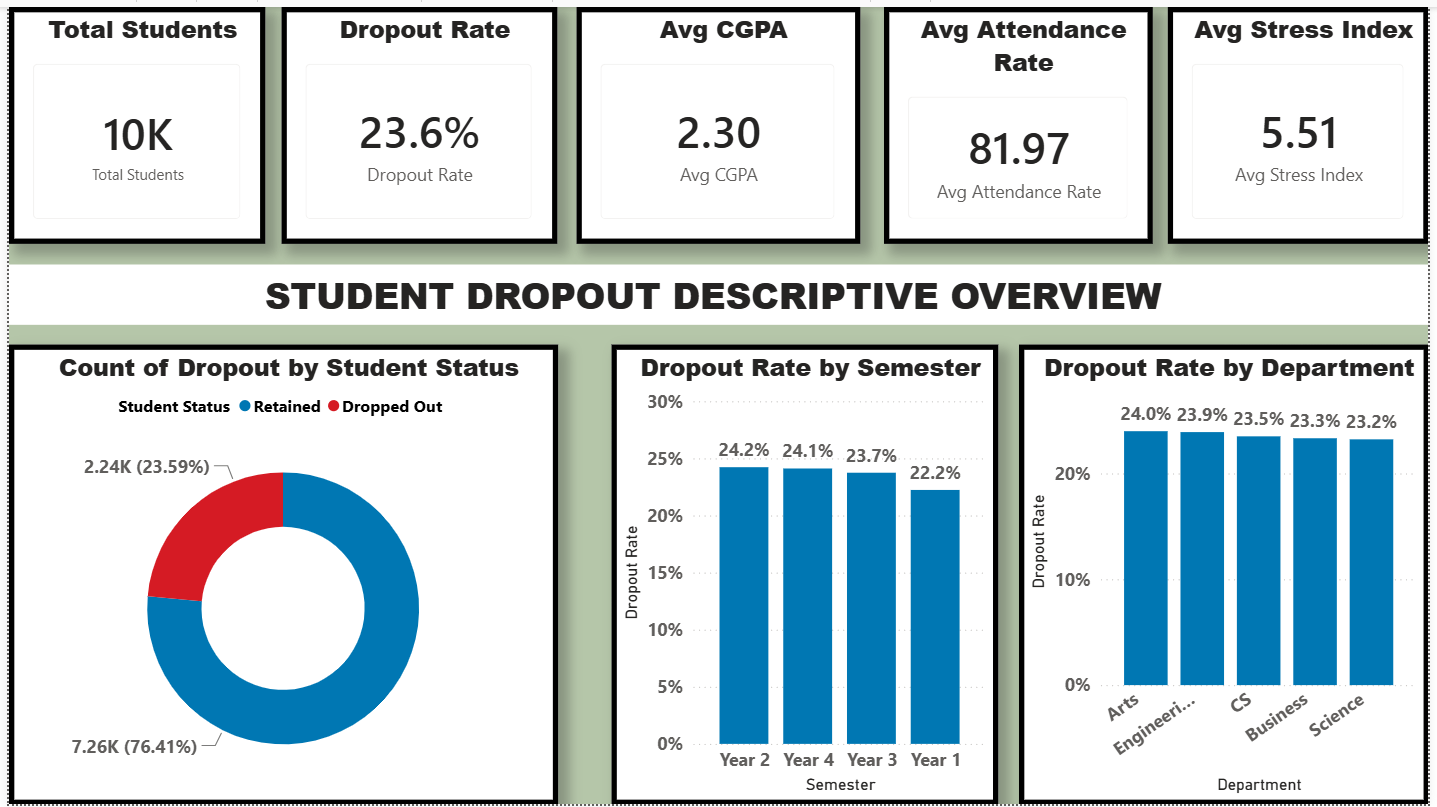

The page's visual inventory and layout, read from the dashboard file:
{"tool":"powerbi","page":{"name":"DESCRIPTIVE OVERVIEW","canvas":[1280,720],"ordinal":0},"visuals":[{"type":"cardVisual","title":"Total Students","fields":{"Data":["STUDENTS.Total Students"]},"box":[0,0,231.5,214],"z":0},{"type":"cardVisual","title":"Dropout Rate","fields":{"Data":["STUDENTS.Dropout Rate"]},"box":[246.1,0,249,214],"z":1000},{"type":"cardVisual","title":"Avg CGPA","fields":{"Data":["STUDENTS.Avg CGPA"]},"box":[511.6,0,255.8,214],"z":2000},{"type":"cardVisual","title":"Avg Attendance Rate","fields":{"Data":["STUDENTS.Avg Attendance Rate"]},"box":[788.8,0,242.2,214],"z":3000},{"type":"cardVisual","title":"Avg Stress Index","fields":{"Data":["STUDENTS.Avg Stress Index"]},"box":[1044.6,0,235.4,214],"z":4000},{"type":"donutChart","fields":{"Category":["STUDENTS.Student Status"],"Y":["CountNonNull(STUDENTS.Dropout)"]},"box":[0,304.4,495.1,415.3],"z":5000},{"type":"clusteredColumnChart","fields":{"Category":["STUDENTS.Semester"],"Y":["STUDENTS.Dropout Rate"]},"box":[543.7,304.4,349.2,415.3],"z":6000},{"type":"clusteredColumnChart","fields":{"Category":["STUDENTS.Department"],"Y":["STUDENTS.Dropout Rate"]},"box":[910.4,304.4,369.6,415.3],"z":7000},{"type":"textbox","box":[0,232.5,1280,54.5],"z":8000}]}

Visuals, with their boxes in screenshot pixels (x1, y1, x2, y2), scaled from the page's 1280x720 canvas onto the 1437x807 screenshot:
"Total Students" cardVisual: {"x1": 0, "y1": 0, "x2": 260, "y2": 240}
"Dropout Rate" cardVisual: {"x1": 276, "y1": 0, "x2": 556, "y2": 240}
"Avg CGPA" cardVisual: {"x1": 574, "y1": 0, "x2": 862, "y2": 240}
"Avg Attendance Rate" cardVisual: {"x1": 886, "y1": 0, "x2": 1157, "y2": 240}
"Avg Stress Index" cardVisual: {"x1": 1173, "y1": 0, "x2": 1436, "y2": 240}
donutChart - STUDENTS.Student Status x CountNonNull(STUDENTS.Dropout): {"x1": 0, "y1": 341, "x2": 556, "y2": 806}
clusteredColumnChart - STUDENTS.Semester x STUDENTS.Dropout Rate: {"x1": 610, "y1": 341, "x2": 1002, "y2": 806}
clusteredColumnChart - STUDENTS.Department x STUDENTS.Dropout Rate: {"x1": 1022, "y1": 341, "x2": 1436, "y2": 806}
textbox: {"x1": 0, "y1": 261, "x2": 1436, "y2": 322}
